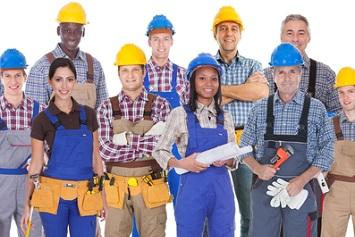helmet: (180, 54, 226, 82), (269, 43, 306, 69), (116, 44, 150, 67), (213, 7, 245, 31), (59, 3, 90, 26), (146, 14, 176, 35), (1, 49, 30, 70), (334, 67, 355, 88)
